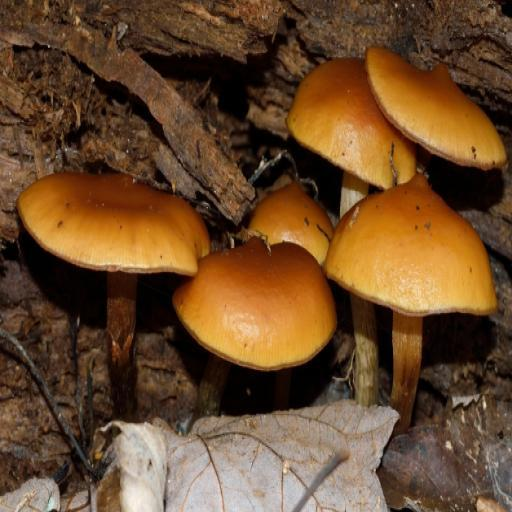mushroom: (214, 34, 501, 405), (17, 130, 209, 324)
